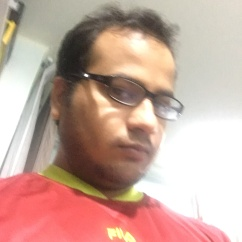glasses: (66, 66, 186, 120)
